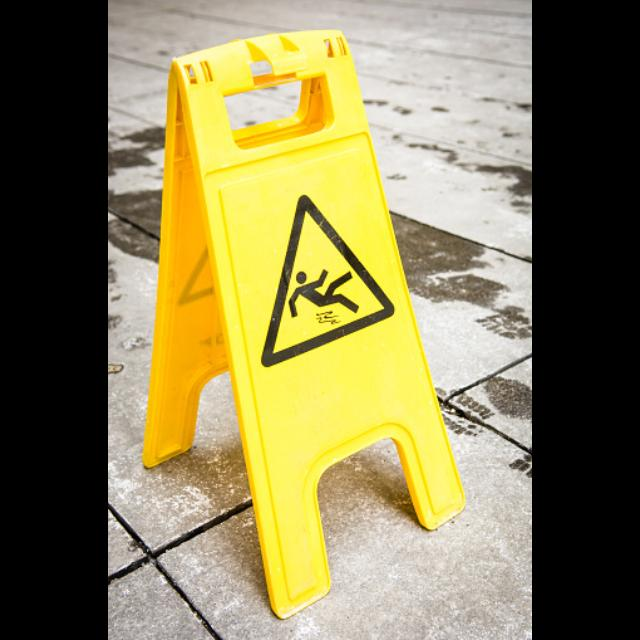slippery_floor: (143, 29, 464, 617)
